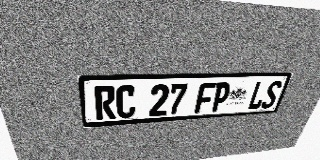2: (149, 84, 170, 116)
7: (167, 83, 188, 115)
C: (116, 85, 136, 119)
F: (194, 82, 216, 113)
L: (246, 81, 270, 110)
P: (210, 82, 232, 112)
R: (94, 85, 116, 120)
S: (260, 81, 283, 109)
